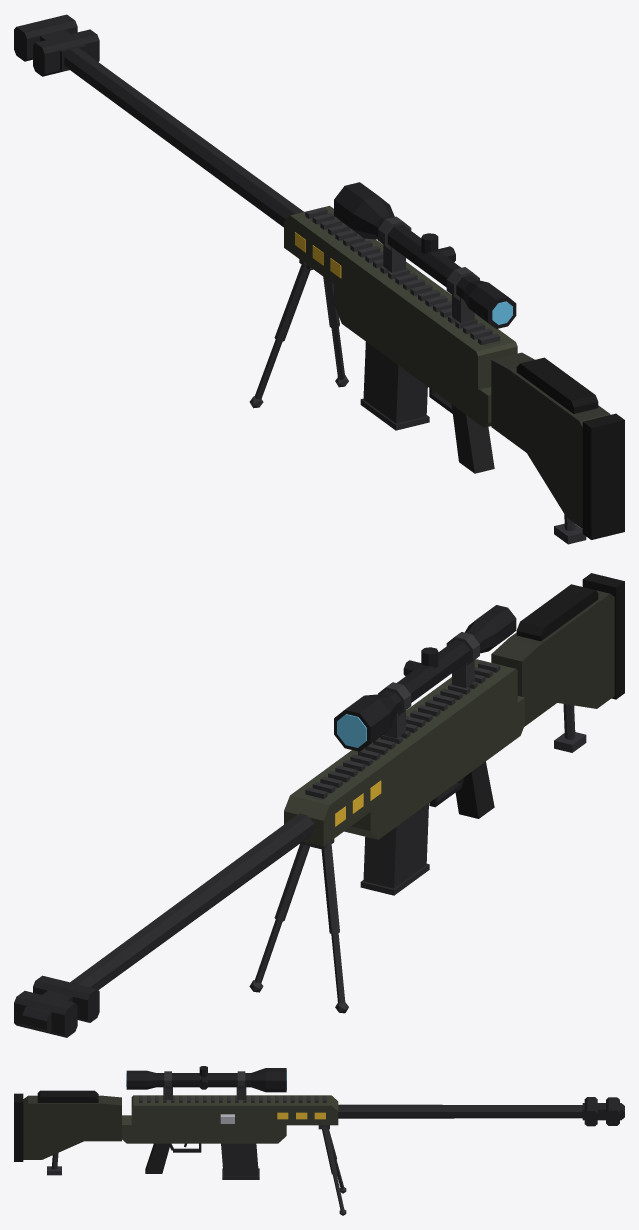
File: Goliath.obj
3 views of the same model, one above another, from view 1: azimuth 30°, elevation 25°; view 2: azimuth 150°, elevation 25°; view 3: azimuth 270°, elevation 25° (orthographic). The views are drawn at different scales.
Parts seen in each view (by area): view 1: Body, Stock, Pad, Barrel, Scope, Mount, Magazine, Muzzle, Bipod, Grip; view 2: Body, Stock, Barrel, Scope, Mount, Bipod, Magazine, Pad, Muzzle, Grip, Lens; view 3: Body, Stock, Barrel, Scope, Pad, Mount, Magazine, Muzzle, Bipod, Grip, Accent.
Part boxes in pixels (x1=…): Body: x1=284, y1=205, x2=517, y2=427; Stock: x1=491, y1=352, x2=610, y2=528; Pad: x1=516, y1=357, x2=624, y2=539; Barrel: x1=64, y1=47, x2=303, y2=227; Scope: x1=334, y1=182, x2=516, y2=328; Mount: x1=305, y1=207, x2=500, y2=346; Magazine: x1=360, y1=342, x2=429, y2=430; Muzzle: x1=14, y1=14, x2=99, y2=76; Bipod: x1=249, y1=259, x2=586, y2=544; Grip: x1=451, y1=404, x2=494, y2=473; Body: x1=284, y1=659, x2=524, y2=846; Stock: x1=491, y1=590, x2=614, y2=726; Barrel: x1=70, y1=813, x2=314, y2=989; Scope: x1=334, y1=605, x2=516, y2=751; Mount: x1=305, y1=632, x2=501, y2=800; Bipod: x1=249, y1=704, x2=586, y2=1013; Magazine: x1=360, y1=803, x2=429, y2=895; Pad: x1=516, y1=573, x2=624, y2=699; Muzzle: x1=14, y1=975, x2=99, y2=1037; Grip: x1=455, y1=761, x2=494, y2=818; Lens: x1=337, y1=714, x2=366, y2=747; Body: x1=122, y1=1095, x2=338, y2=1143; Stock: x1=23, y1=1095, x2=121, y2=1159; Barrel: x1=338, y1=1104, x2=582, y2=1118; Scope: x1=126, y1=1066, x2=286, y2=1092; Pad: x1=14, y1=1090, x2=98, y2=1161; Mount: x1=137, y1=1071, x2=328, y2=1102; Magazine: x1=221, y1=1143, x2=259, y2=1179; Muzzle: x1=582, y1=1097, x2=624, y2=1126; Bipod: x1=47, y1=1125, x2=346, y2=1215; Grip: x1=145, y1=1143, x2=170, y2=1173; Accent: x1=277, y1=1112, x2=325, y2=1119.
Bounding box in the file's own units: 0.628 × 1.6 × 6.5.
